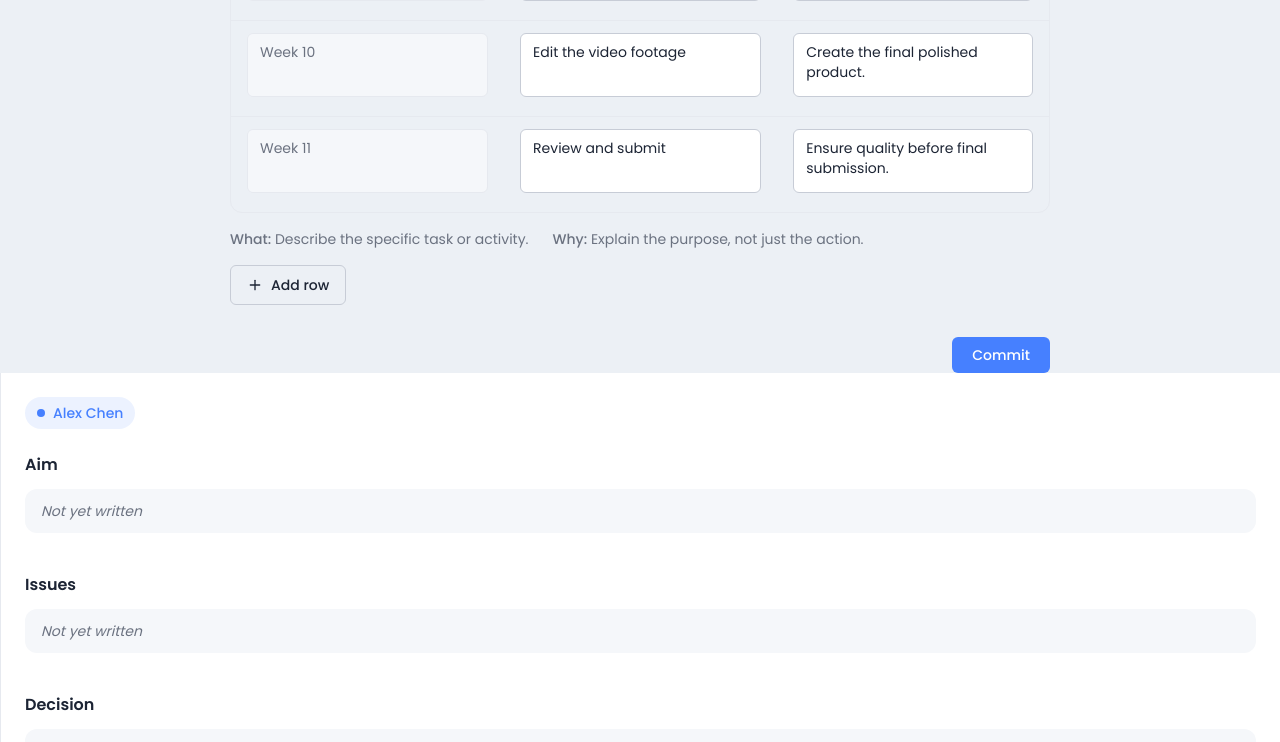
Test case: SlideScaffold — freeform-table mode › Add row button is hidden after commit
The image size is (1280, 742).
(page scrolled)
Click the button "Commit": (1001, 355) [952,337,1050,373]
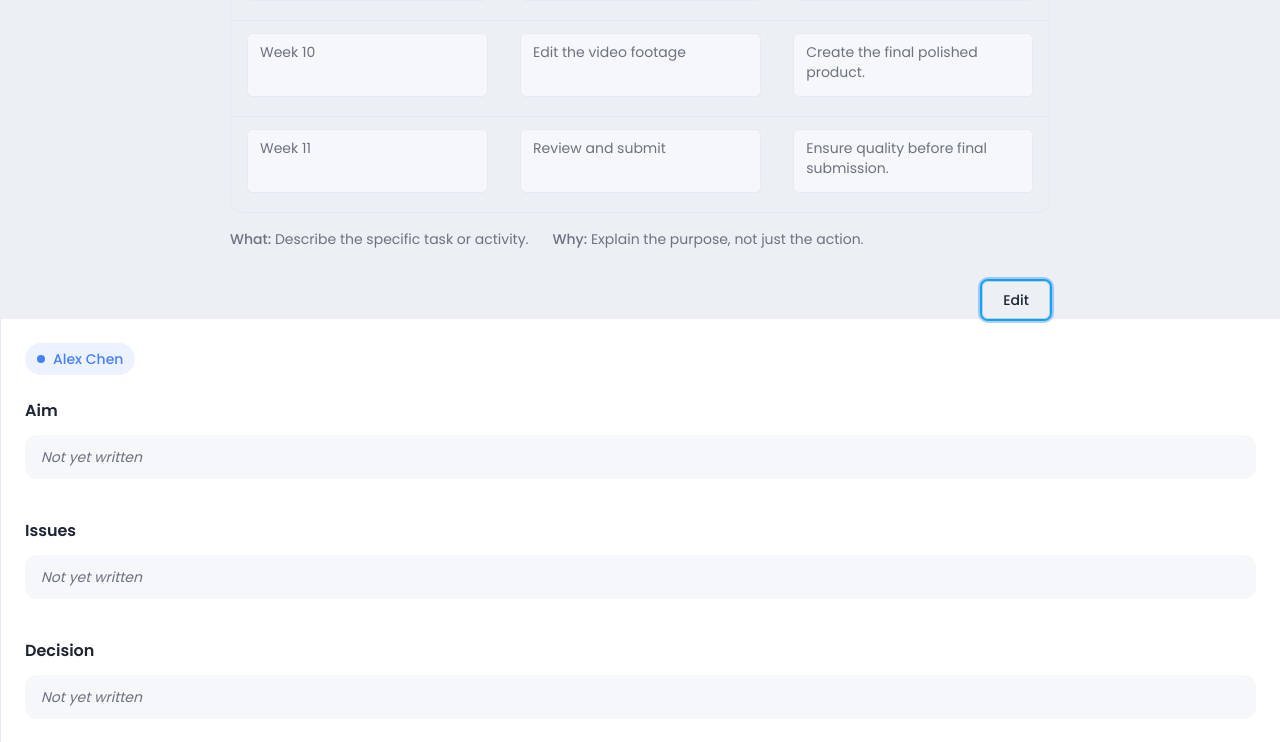
Expected: the button "Add row" is gone
